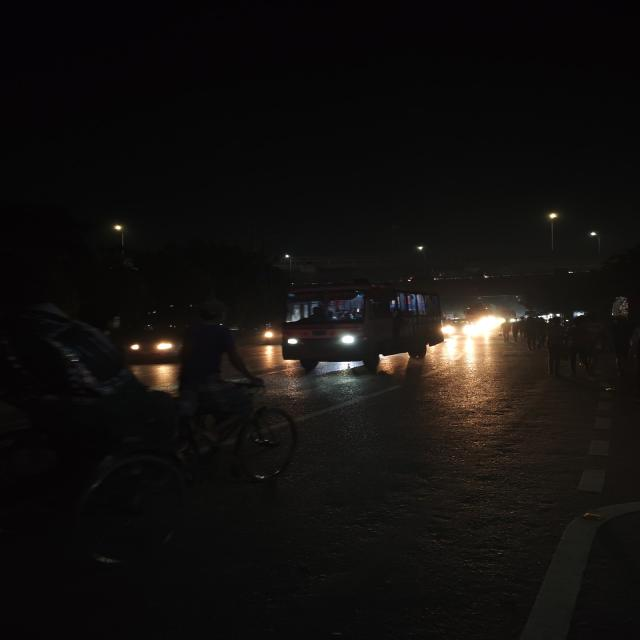bus: (274, 282, 447, 376)
car: (444, 316, 476, 339)
pedestrian: (566, 318, 598, 372), (542, 315, 568, 375), (522, 314, 542, 351), (499, 319, 514, 342)
rickshaw: (0, 300, 304, 582)
